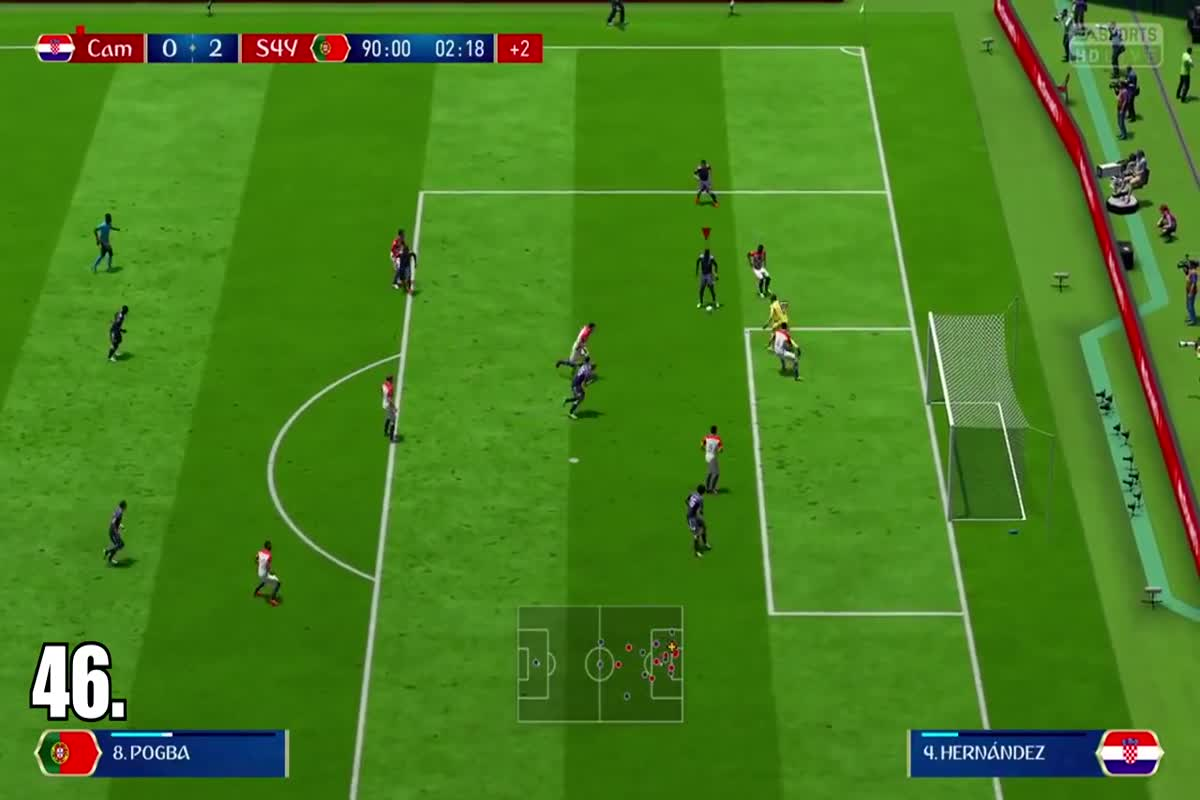ball: (699, 302, 722, 317)
